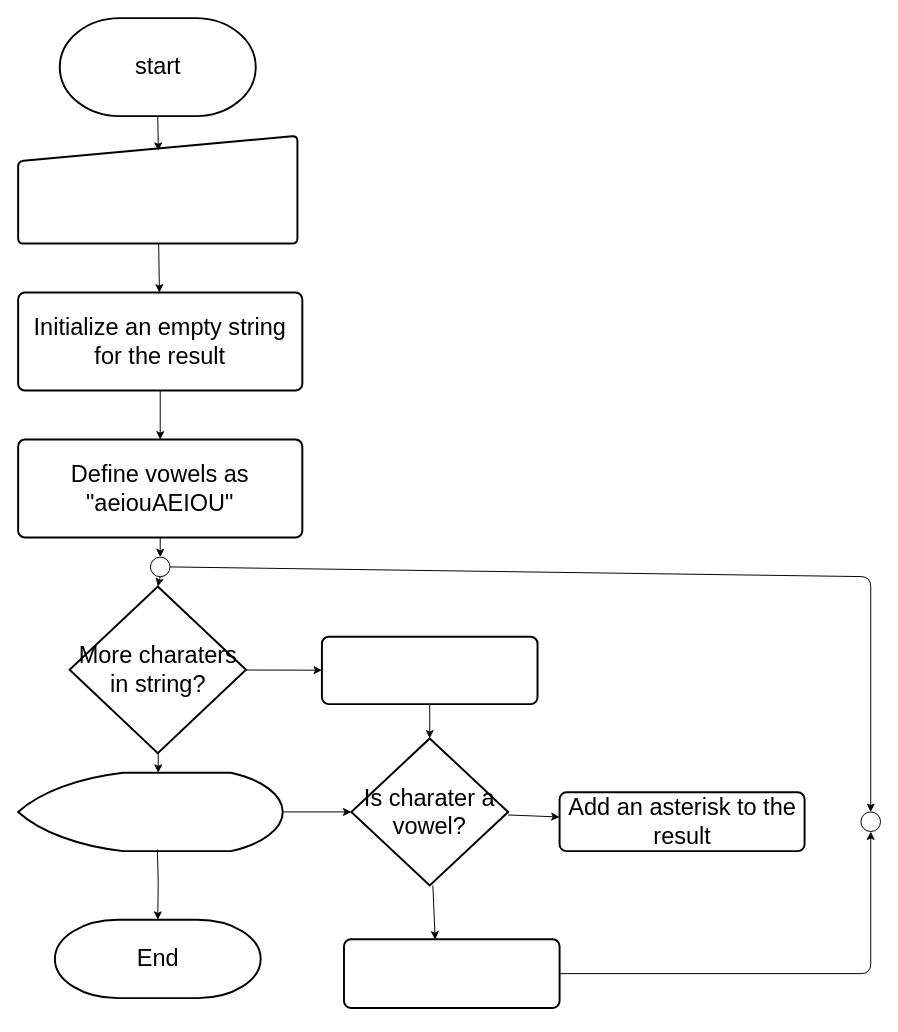
This 898x1032 diagram has some shape labels left out. The centre of each missing label's shape, as x and y in pixels:
Add the uppercase charater to the result: pixel 451 973
Convert charater to uppercase: pixel 429 670
Print the modified string: pixel 150 811
Read input string from the user: pixel 157 189
